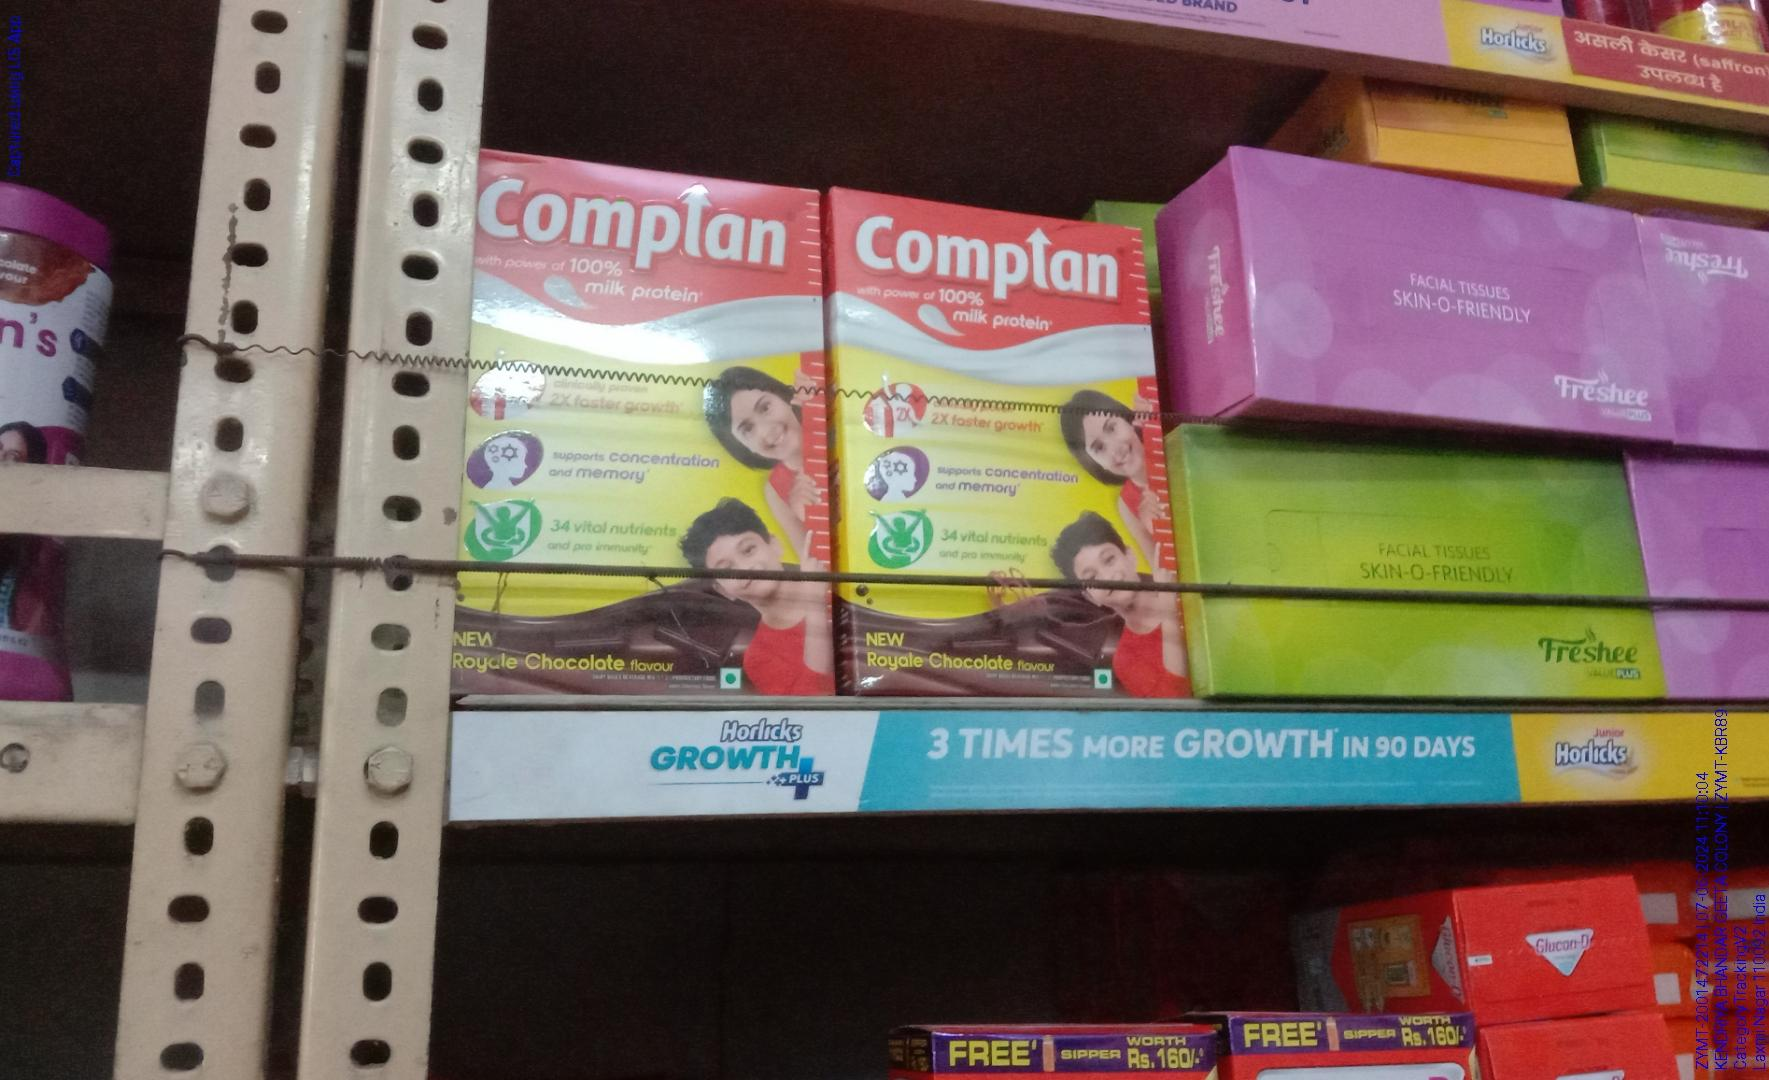COMPLAN_CHOCOLATE_500_GMS_PACK: (470, 159, 831, 693), (842, 192, 1178, 704)
